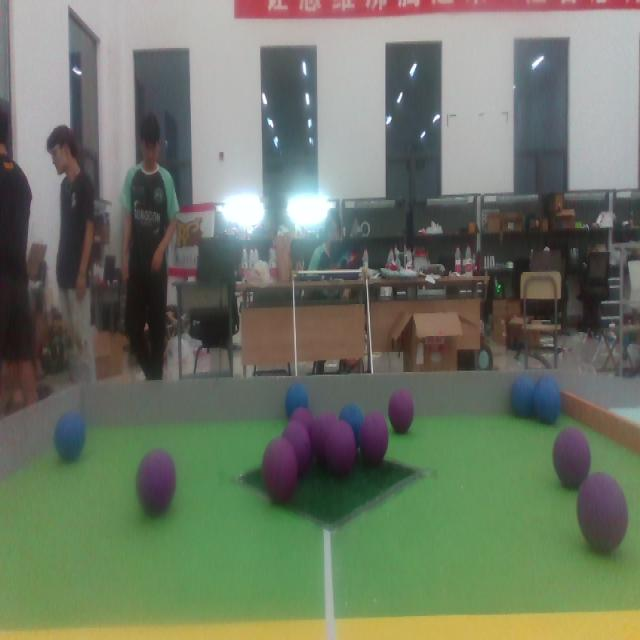blue: (55, 410, 85, 462), (531, 380, 559, 425), (339, 401, 364, 448), (508, 377, 534, 420), (286, 381, 310, 415)
invalid: (572, 467, 628, 550), (552, 426, 592, 490), (137, 451, 175, 515), (264, 440, 298, 503), (359, 408, 391, 463), (386, 390, 419, 441), (312, 407, 340, 464), (280, 414, 309, 469), (329, 420, 353, 478), (290, 407, 314, 436)
